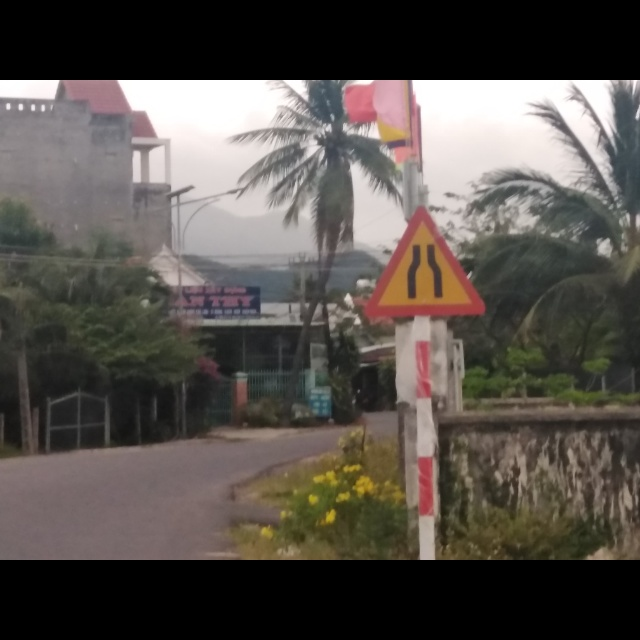Đường bị hẹp cả hai bên: (366, 202, 490, 316)
